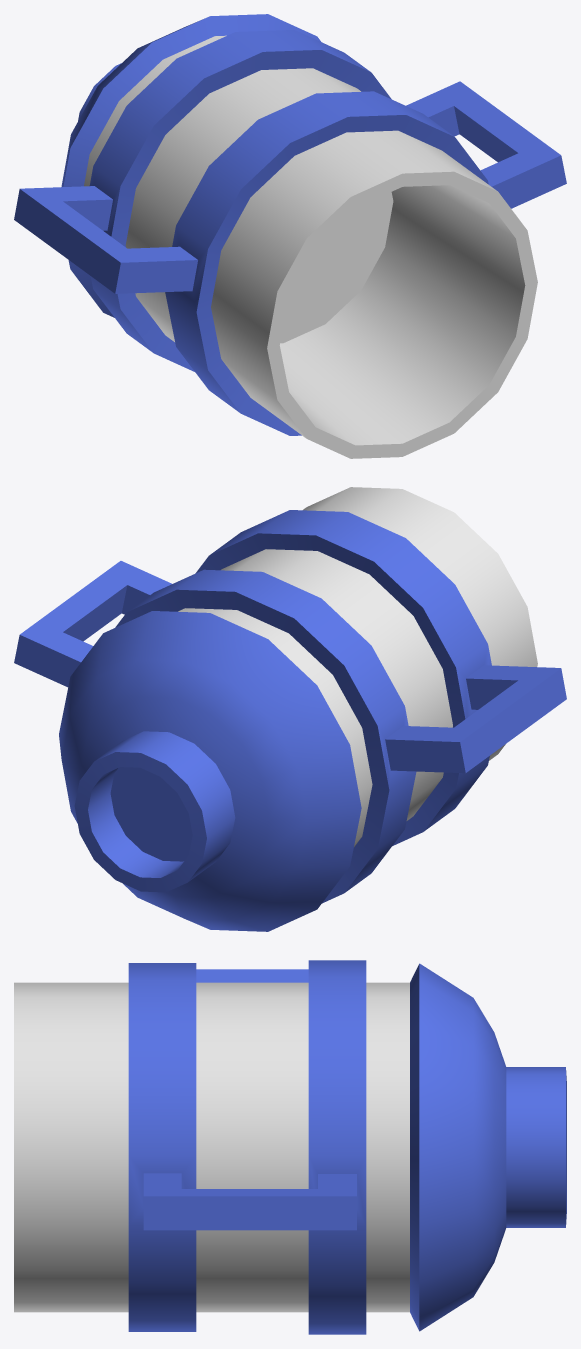
Rendered from PlayerGun.fbx.
The picture shows the model from 3 angles, top to bottom: view 1: azimuth 30°, elevation 25°; view 2: azimuth 150°, elevation 25°; view 3: azimuth 270°, elevation 25°; orthographic projection. The views are drawn at different scales.
Visible parts, largest first — view 1: PlayerGun; view 2: PlayerGun; view 3: PlayerGun.
Boxes of the visible parts, x1,y1,x2,y2 form: PlayerGun: (14, 14, 566, 458); PlayerGun: (14, 487, 566, 931); PlayerGun: (14, 960, 566, 1334).
Bounding box in the file's own units: 359 × 245 × 361.
